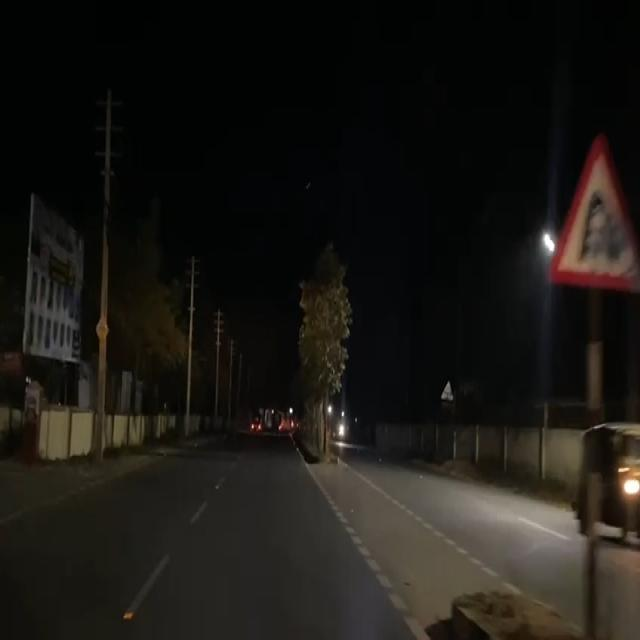bien_cam: (549, 126, 640, 297)
